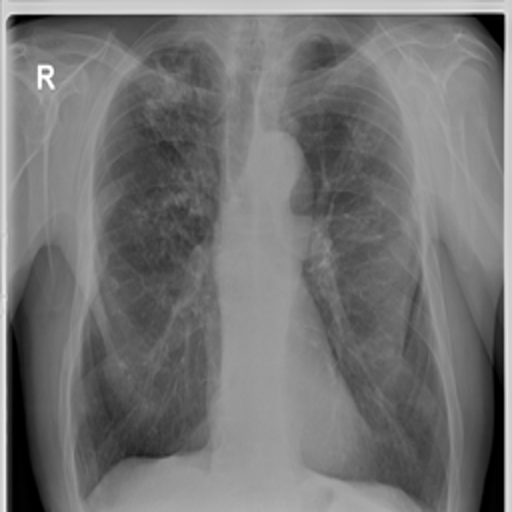TB: (310, 129, 391, 267), (120, 62, 209, 134), (132, 168, 202, 240)
